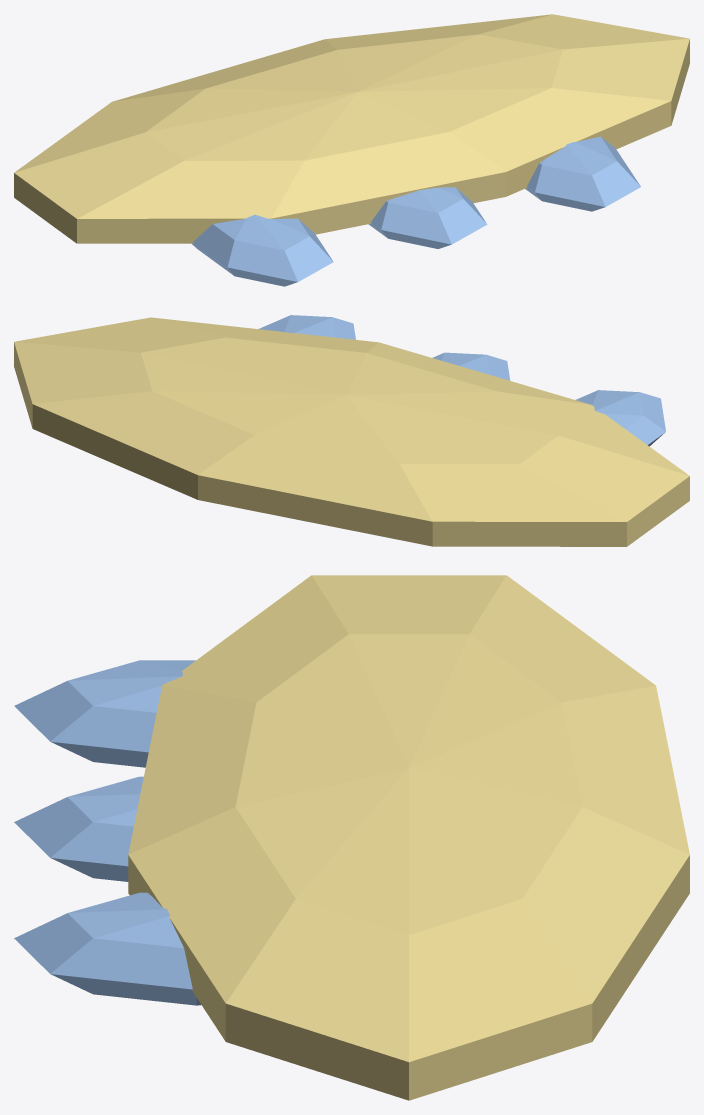
Rendered from loro_ala_amarilla.glb.
3 views of the same model, one above another, from view 1: azimuth 30°, elevation 25°; view 2: azimuth 150°, elevation 25°; view 3: azimuth 270°, elevation 25° (orthographic). The views are drawn at different scales.
Visible parts, largest first — view 1: loro_ala_amarilla; view 2: loro_ala_amarilla; view 3: loro_ala_amarilla.
Boxes of the visible parts, <box> form: loro_ala_amarilla: <box>14,14,689,286</box>; loro_ala_amarilla: <box>14,315,689,546</box>; loro_ala_amarilla: <box>14,575,689,1100</box>.
Size of the model in its own units: 0.9224 by 0.11 by 0.541.
